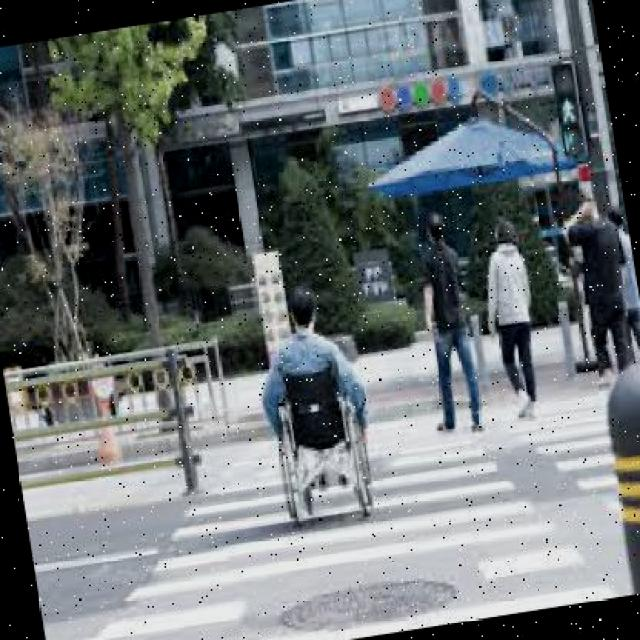Person: (249, 284, 383, 528), (405, 211, 487, 435), (554, 188, 640, 397), (477, 217, 549, 426)
